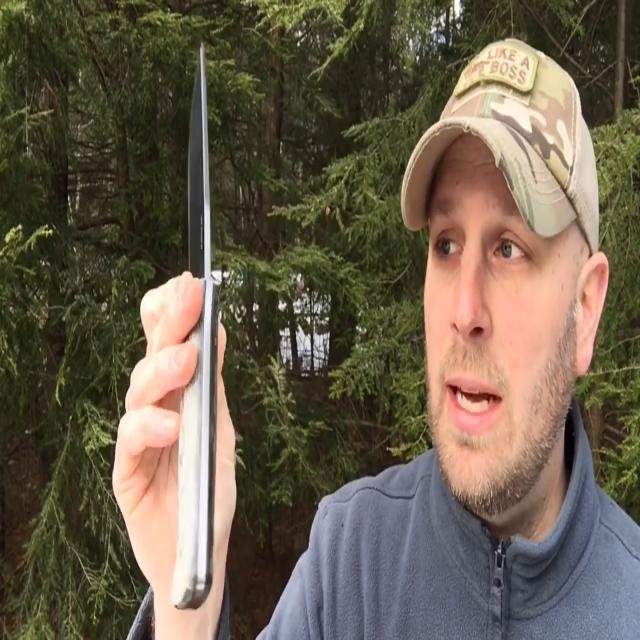knife: (173, 36, 226, 614)
